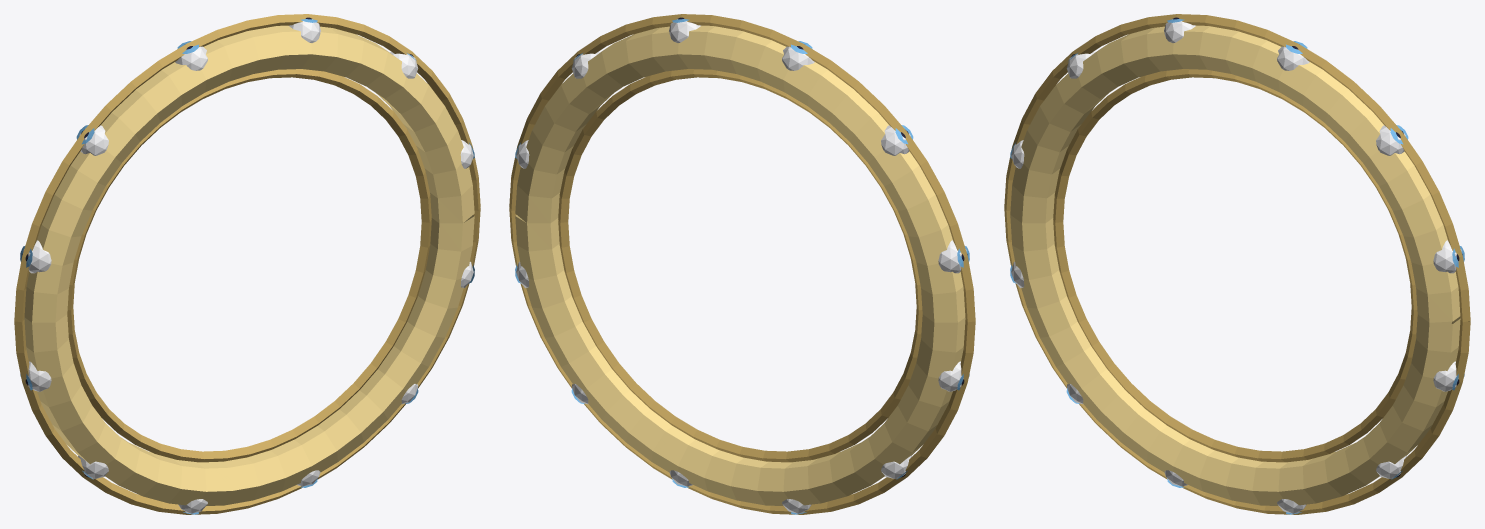
Rendered from AngelRingB.obj.
3 views of the same model, side by side, from view 1: azimuth 30°, elevation 25°; view 2: azimuth 150°, elevation 25°; view 3: azimuth 330°, elevation 25° (orthographic).
Parts seen in each view (by area): view 1: AngelRingB; view 2: AngelRingB; view 3: AngelRingB.
Boxes of the visible parts, left/top/right/bottom form: AngelRingB: left=14, top=14, right=480, bottom=514; AngelRingB: left=509, top=14, right=975, bottom=514; AngelRingB: left=1004, top=14, right=1470, bottom=514.
Size of the model in its own units: 2.29 by 2.29 by 0.2.
Materials: 1 (1 with a texture image).
